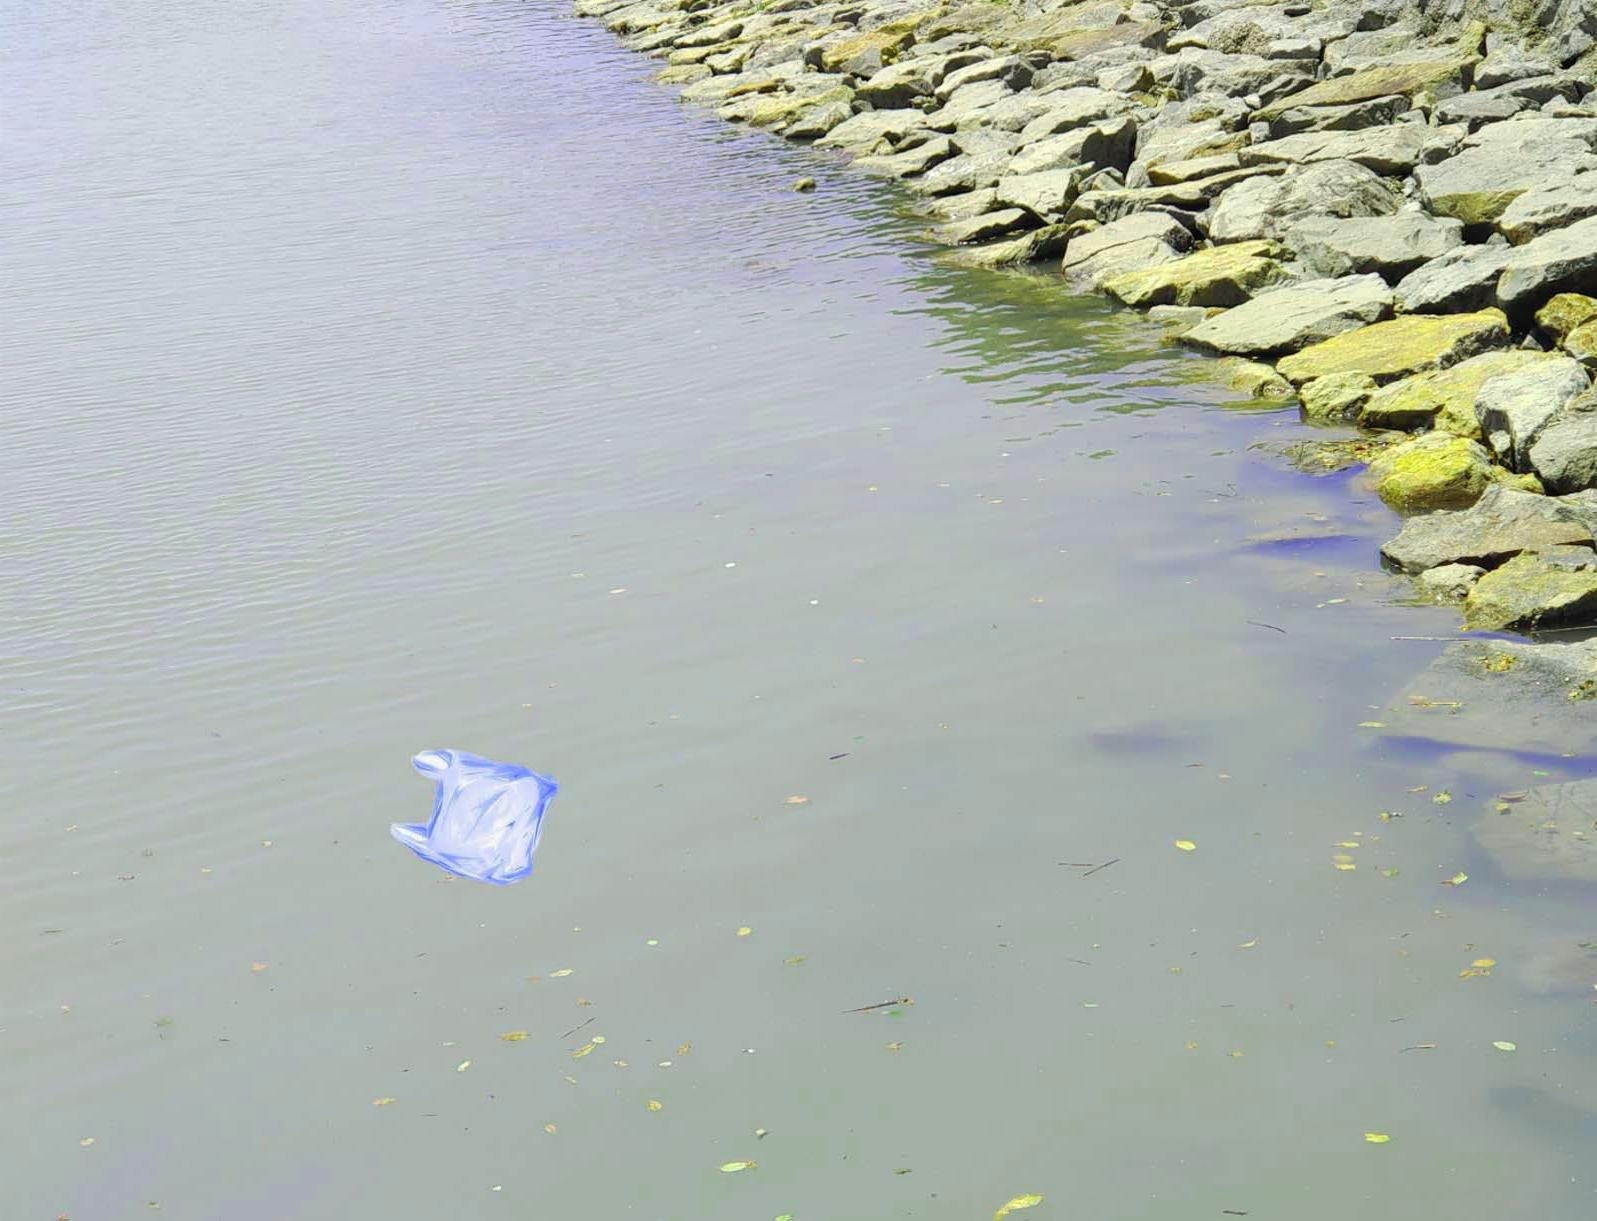Trash: (391, 741, 564, 881)
